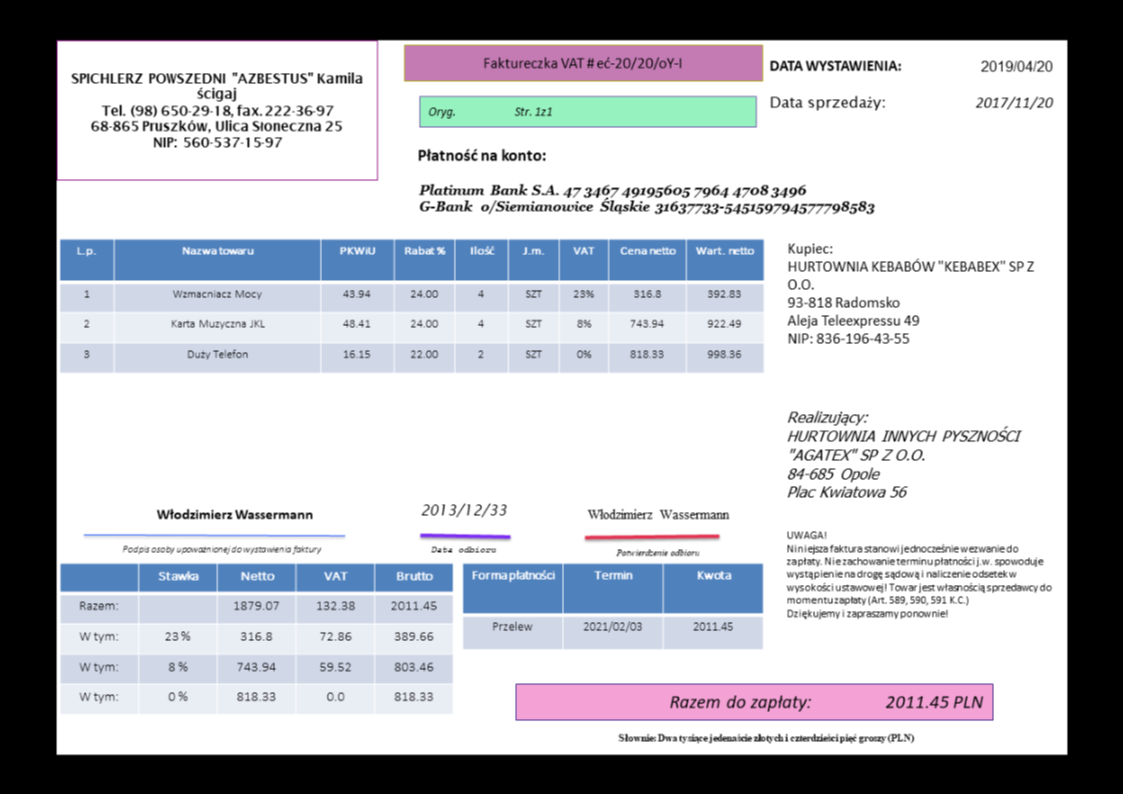Table: (57, 236, 766, 374), (58, 561, 455, 716), (460, 561, 766, 651)
TextBox: (784, 240, 1036, 348), (783, 528, 1056, 620), (68, 69, 367, 151), (783, 405, 1024, 504), (415, 179, 880, 219), (665, 690, 986, 715), (614, 728, 917, 746), (478, 52, 683, 72), (152, 502, 316, 524), (118, 540, 323, 556), (768, 53, 904, 76), (415, 144, 548, 167), (583, 504, 733, 522), (768, 93, 888, 113), (426, 102, 555, 120), (417, 499, 509, 519), (971, 92, 1054, 112), (978, 55, 1056, 74), (425, 540, 500, 556), (612, 546, 701, 559)
